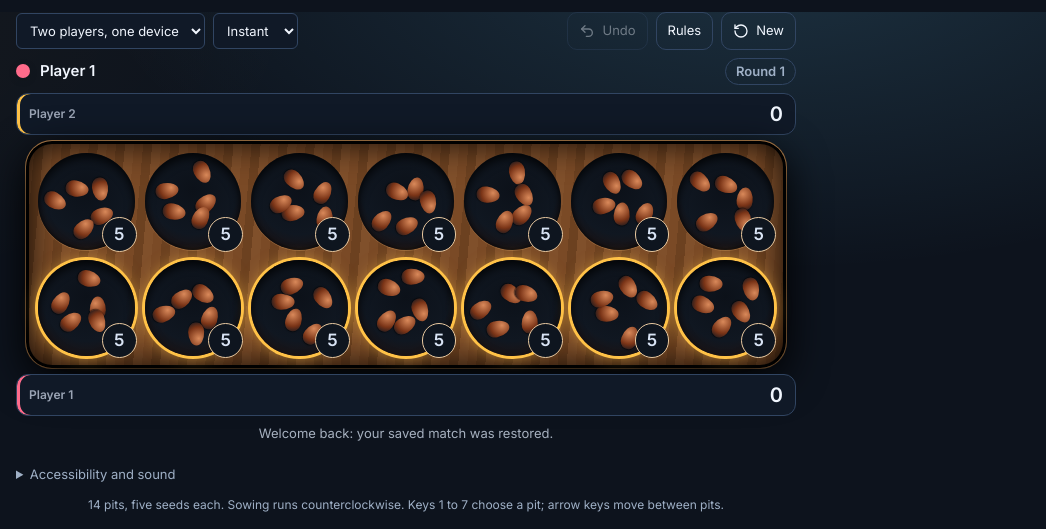
Test: Pallanguzhi › explains a pit that cannot be chosen, and changes nothing
Click the 1st button "5" at (86, 201), box [38, 153, 135, 250]
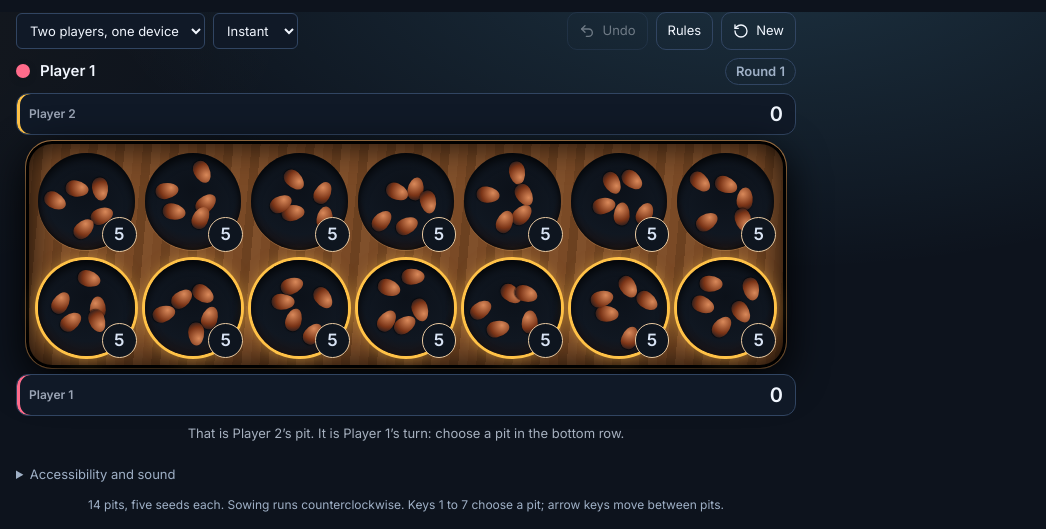
Now the message shows "Player 2’s pit", box [188, 425, 624, 441]
